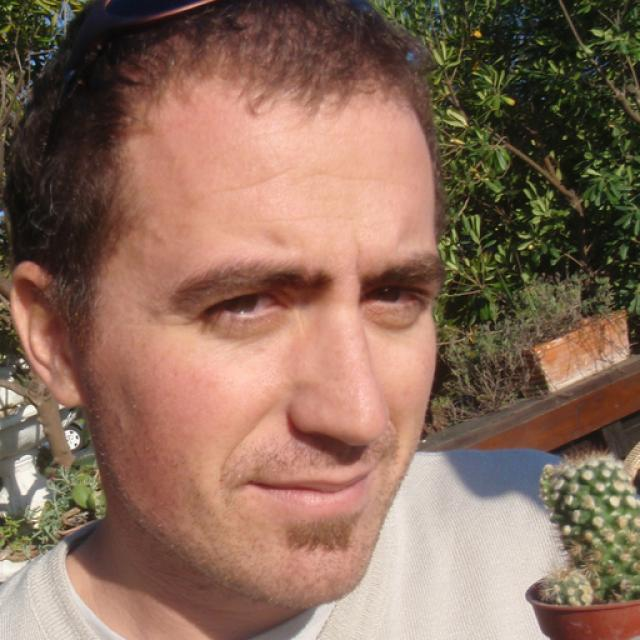content: (88, 85, 438, 604)
